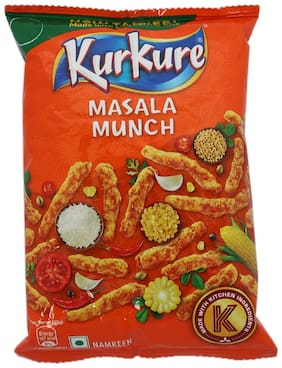kurkure: (41, 37, 219, 97)
plastic: (28, 20, 255, 346)
wrapper: (39, 113, 246, 325)
